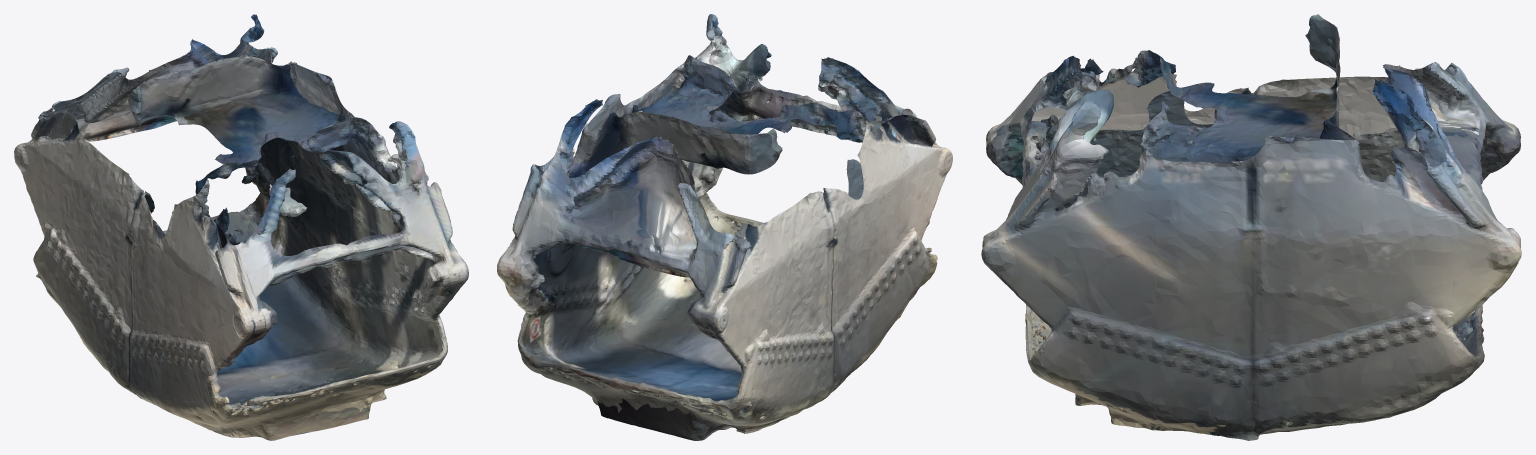
Rendered from S006_CraneShovel.glb.
The picture shows the model from 3 angles, left to right: view 1: azimuth 30°, elevation 25°; view 2: azimuth 150°, elevation 25°; view 3: azimuth 270°, elevation 25°; orthographic projection. The views are drawn at different scales.
Parts seen in each view (by area): view 1: Object_4; view 2: Object_4; view 3: Object_4.
Part boxes in pixels (box(x1,y1,x2,y2)): Object_4: box(14, 14, 468, 440); Object_4: box(497, 14, 952, 440); Object_4: box(981, 14, 1521, 440).
Size of the model in its own units: 49.6 by 59.43 by 85.98.
1 material, 1 textured.
